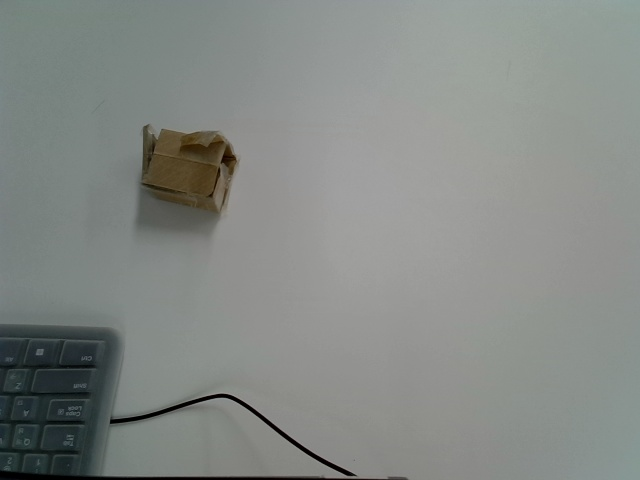defect: (139, 123, 241, 214)
